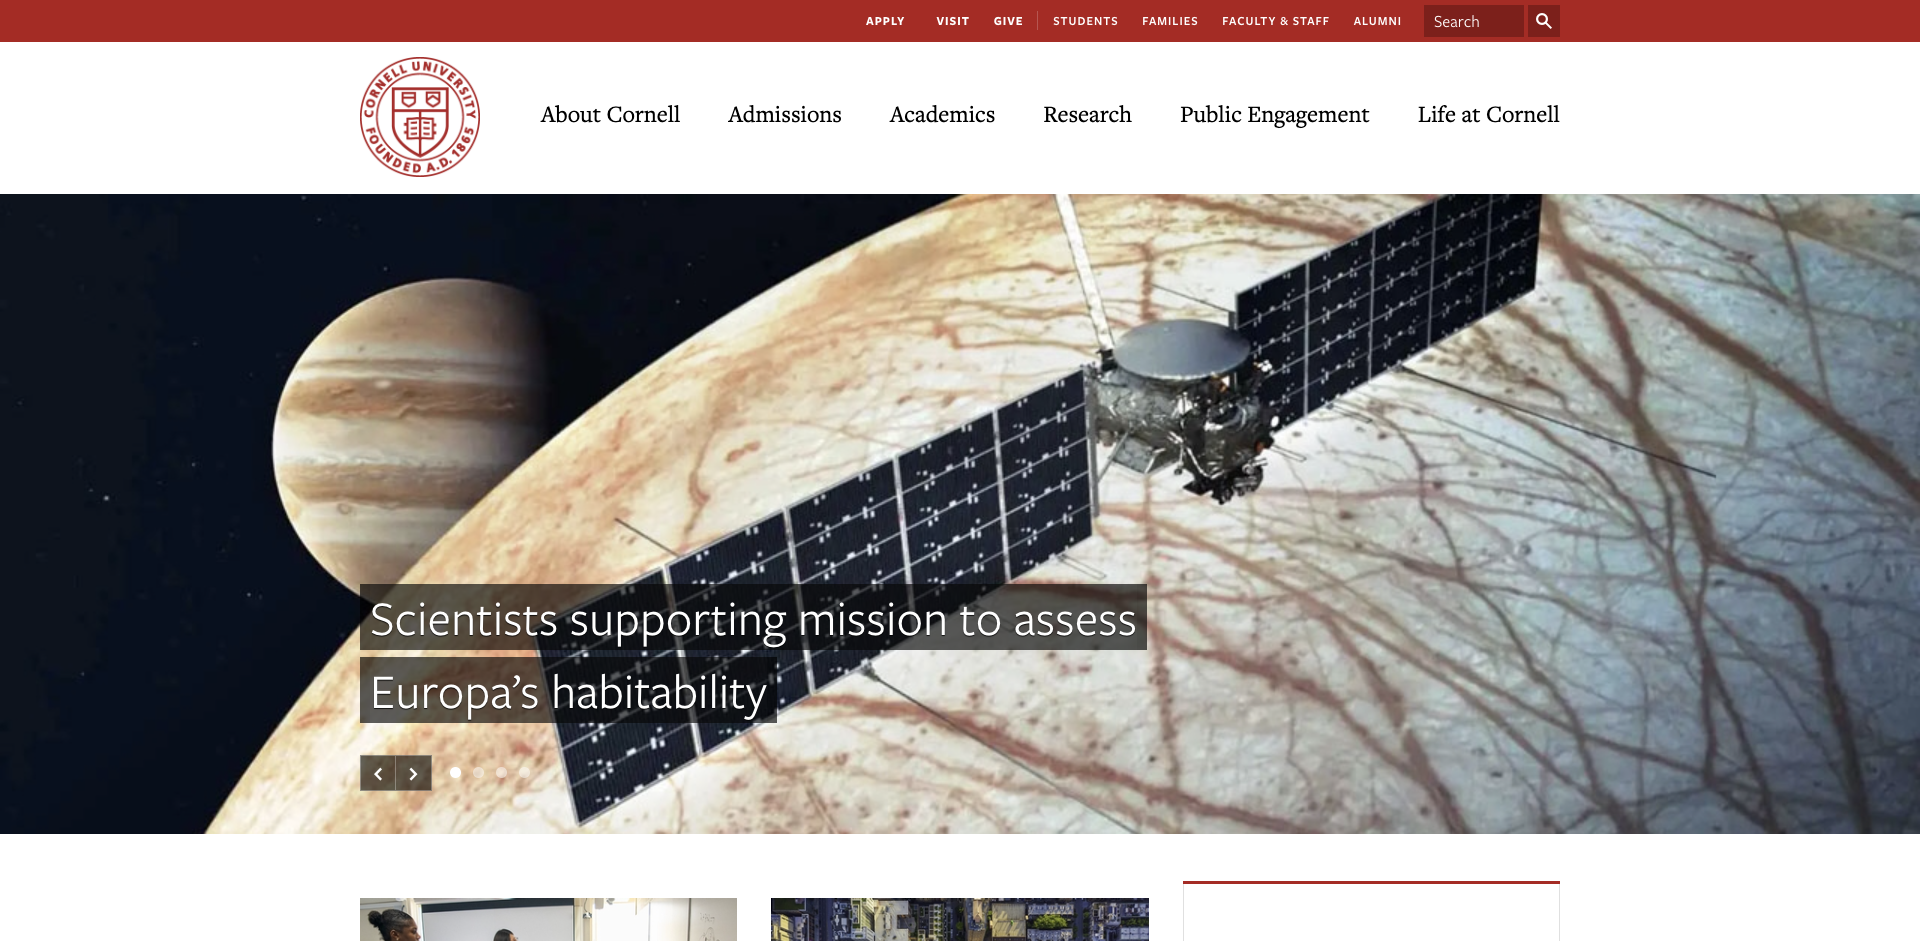button: (856, 0, 916, 42), (396, 755, 432, 792), (360, 755, 396, 792), (1528, 5, 1560, 37)
input: (1424, 5, 1524, 37)
link: (360, 581, 1205, 727), (1156, 42, 1393, 149), (1393, 42, 1560, 149), (541, 42, 704, 149), (704, 42, 866, 149), (866, 42, 1019, 149), (360, 898, 737, 941), (771, 898, 1149, 941), (1019, 42, 1156, 149), (360, 58, 480, 176), (1212, 0, 1340, 42), (1043, 0, 1129, 42), (1133, 0, 1209, 42), (1343, 0, 1412, 42), (927, 0, 980, 42), (983, 0, 1033, 42), (449, 767, 460, 778), (473, 767, 484, 778), (496, 767, 507, 778), (519, 767, 530, 778)
menu_item: (1156, 42, 1393, 149), (1393, 42, 1560, 149), (541, 42, 704, 149), (704, 42, 866, 149), (866, 42, 1019, 149), (1019, 42, 1156, 149)
